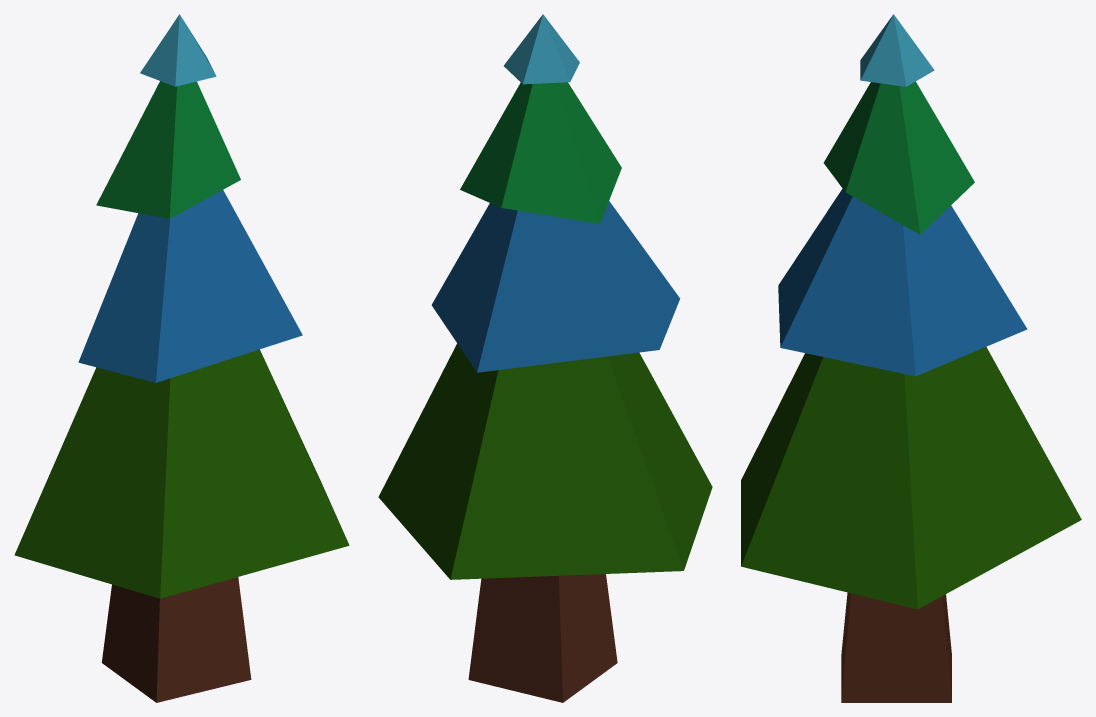
The model's file is tree01.fbx.
3 renders of one model, left to right at view 1: azimuth 30°, elevation 25°; view 2: azimuth 150°, elevation 25°; view 3: azimuth 270°, elevation 25°, orthographic.
Parts seen in each view (by area): view 1: Cone.002, Cone, Cube.001, Cone.001, Cone.003; view 2: Cone.002, Cone, Cube.001, Cone.001, Cone.003; view 3: Cone.002, Cone, Cone.001, Cube.001, Cone.003.
Boxes of the visible parts, x1,y1,x2,y2 form: Cone.002: (14, 349, 349, 598); Cone: (78, 190, 302, 382); Cube.001: (101, 577, 251, 702); Cone.001: (96, 81, 240, 218); Cone.003: (140, 14, 216, 86); Cone.002: (378, 343, 712, 579); Cone: (431, 201, 680, 372); Cube.001: (468, 574, 617, 702); Cone.001: (460, 82, 621, 223); Cone.003: (504, 14, 579, 84); Cone.002: (741, 347, 1081, 609); Cone: (778, 188, 1027, 376); Cone.001: (823, 81, 974, 234); Cube.001: (841, 592, 951, 702); Cone.003: (860, 14, 934, 86).
Bounding box in the file's own units: 629 × 1290 × 598.
